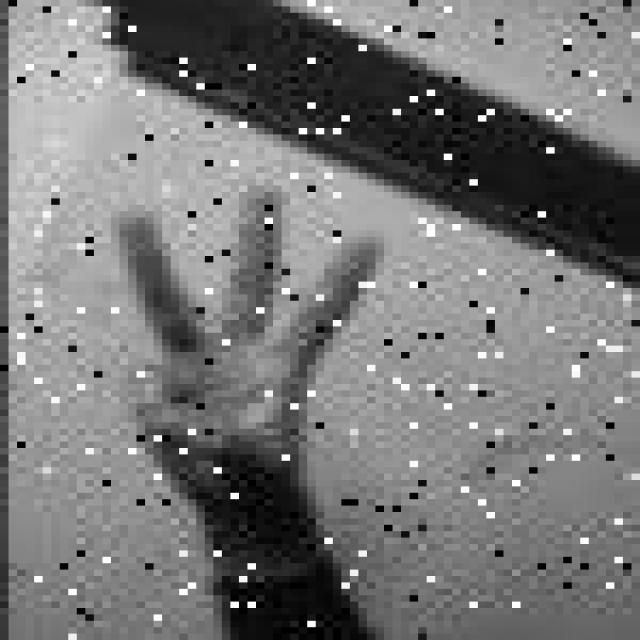W: (102, 173, 384, 512)
